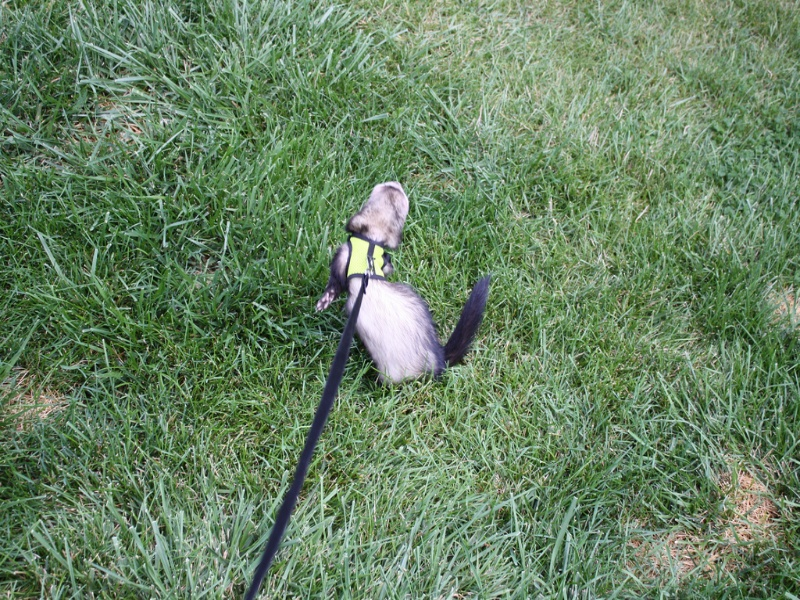minkish: (311, 167, 504, 398)
